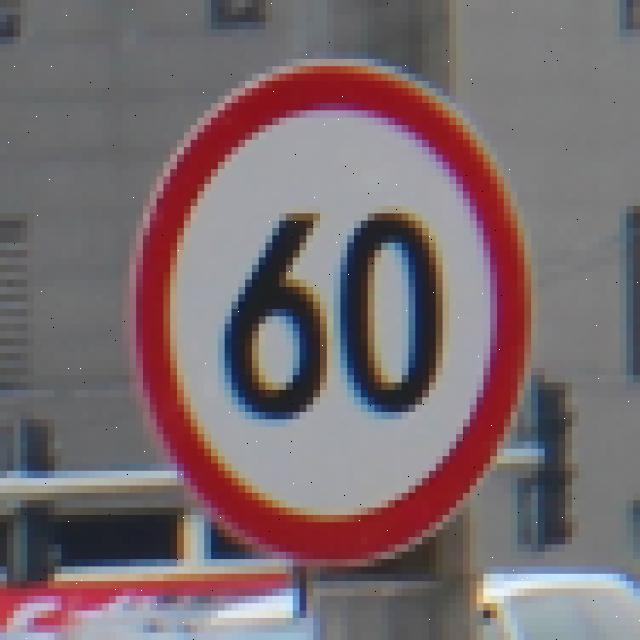speed limit 60: (125, 61, 532, 565)
